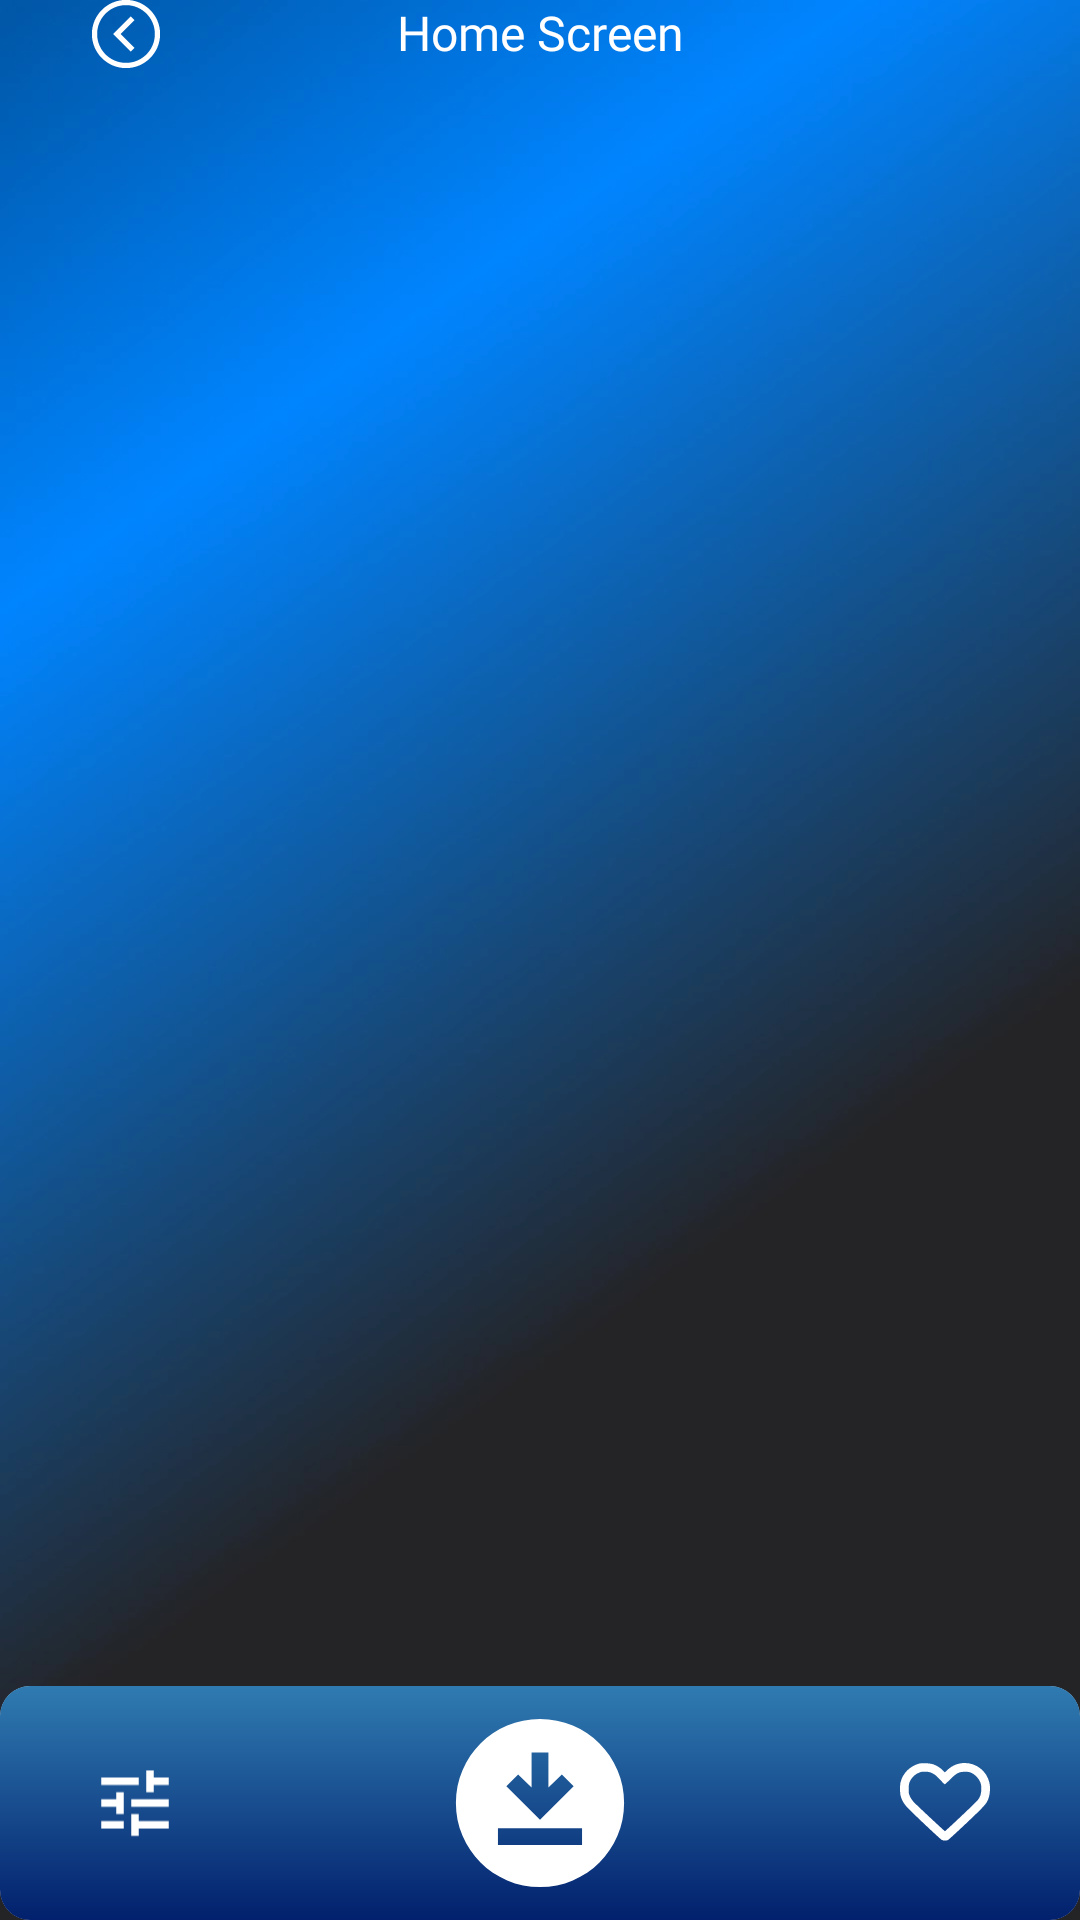

Screen size 1080 × 1920. Icon name, then its center in pixels as (x,y):
download: (540,1803)
favourite: (945,1803)
filter: (135,1803)
